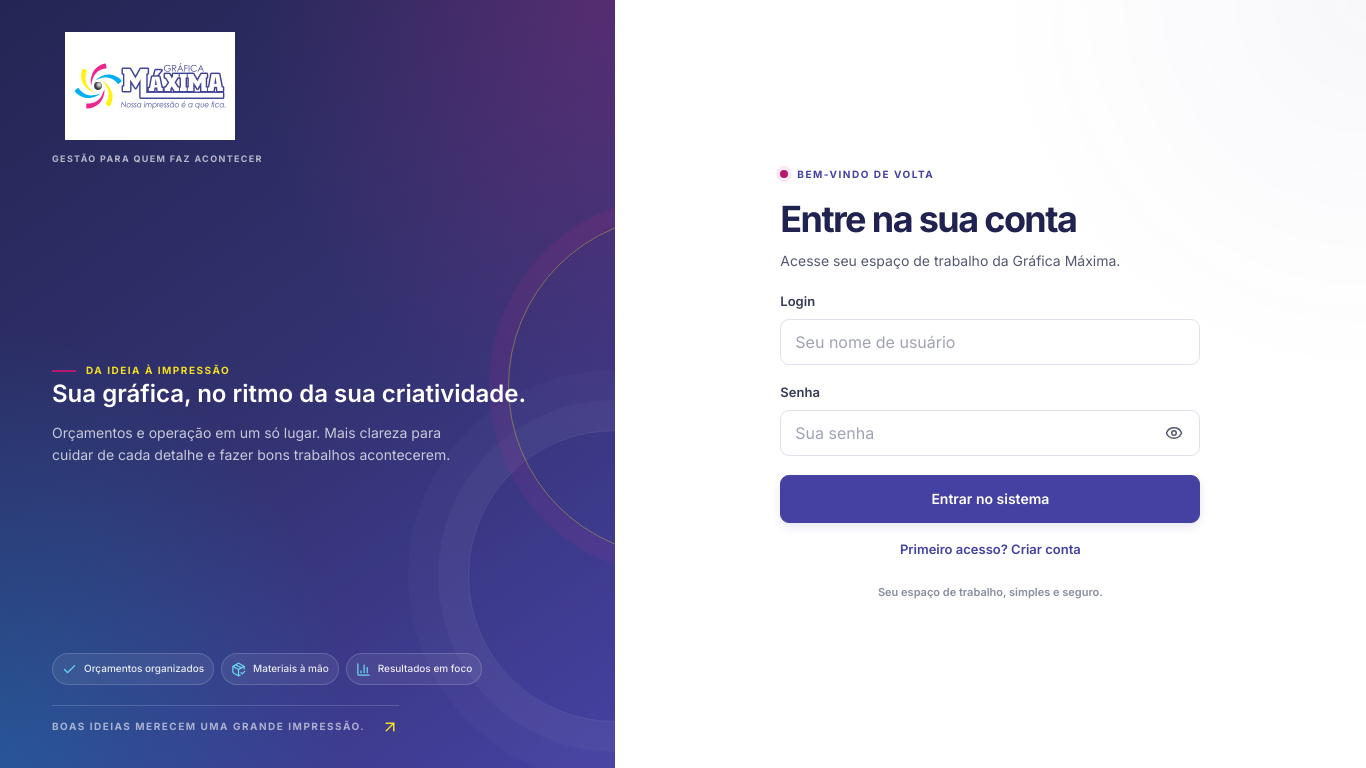
Test case: Acesso — login › mostra a mensagem do servidor quando o login é recusado
This screenshot has width=1366, height=768.
Type "ana" into the field labelled "Login". click: (990, 342)
box: x1=780 y1=319 x2=1200 y2=365
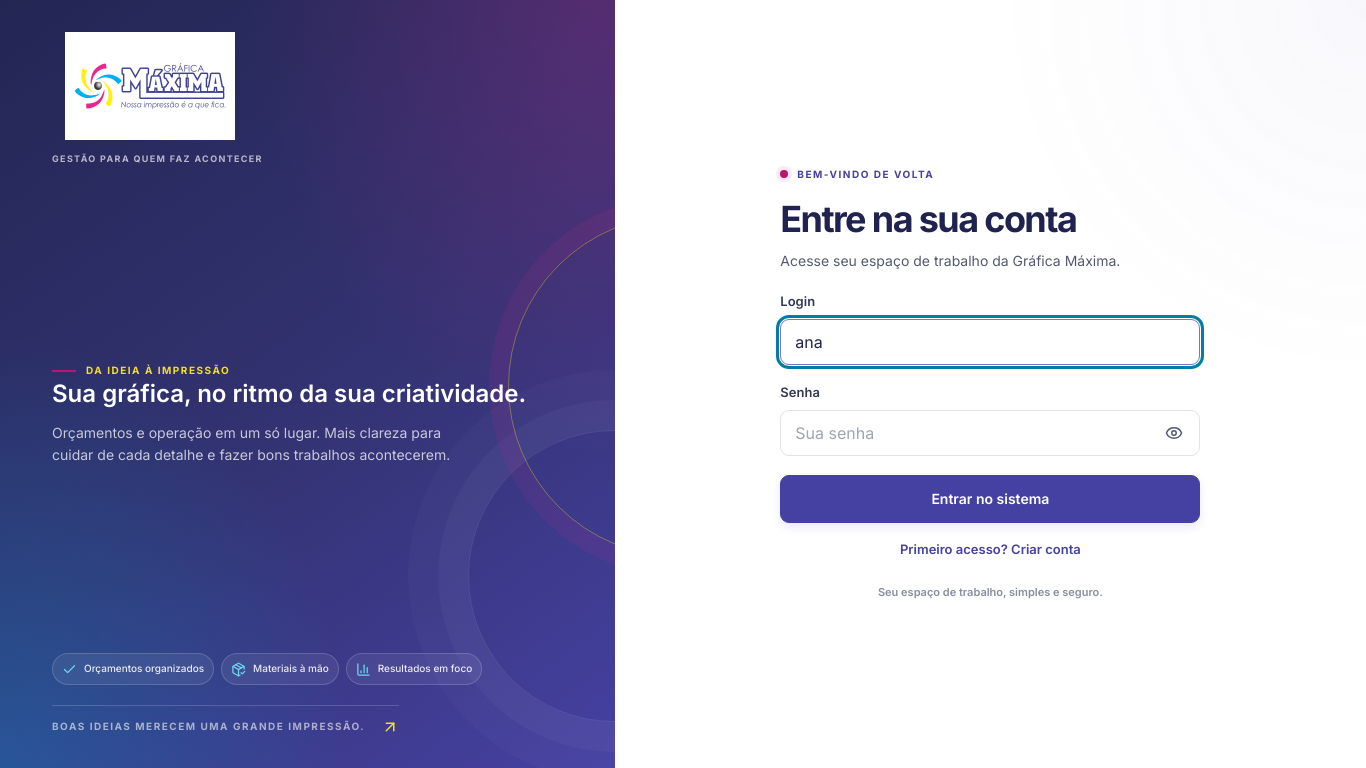
Type "senha-errada" into the password field labelled "Senha". click: (990, 433)
box: x1=780 y1=410 x2=1200 y2=456
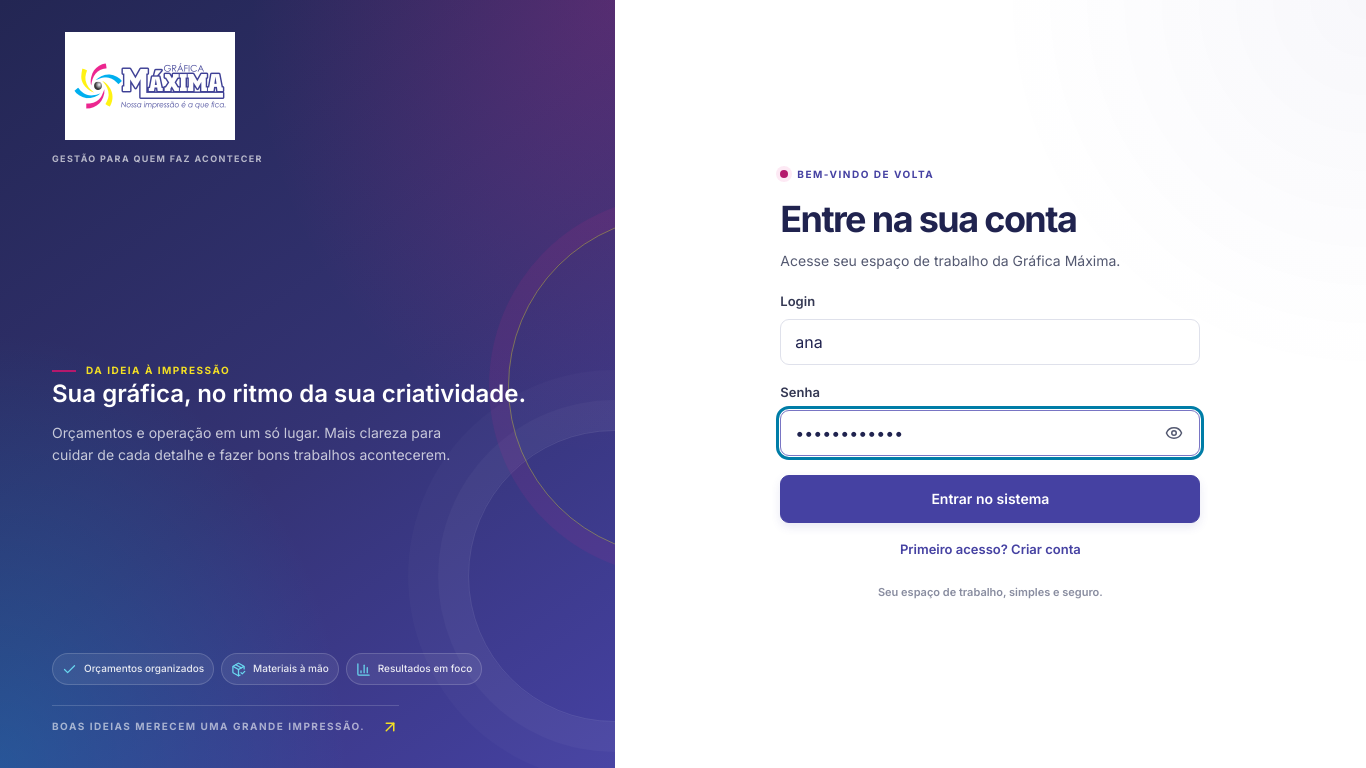
Click the button "Entrar no sistema". click: (990, 499)
box: x1=780 y1=475 x2=1200 y2=523
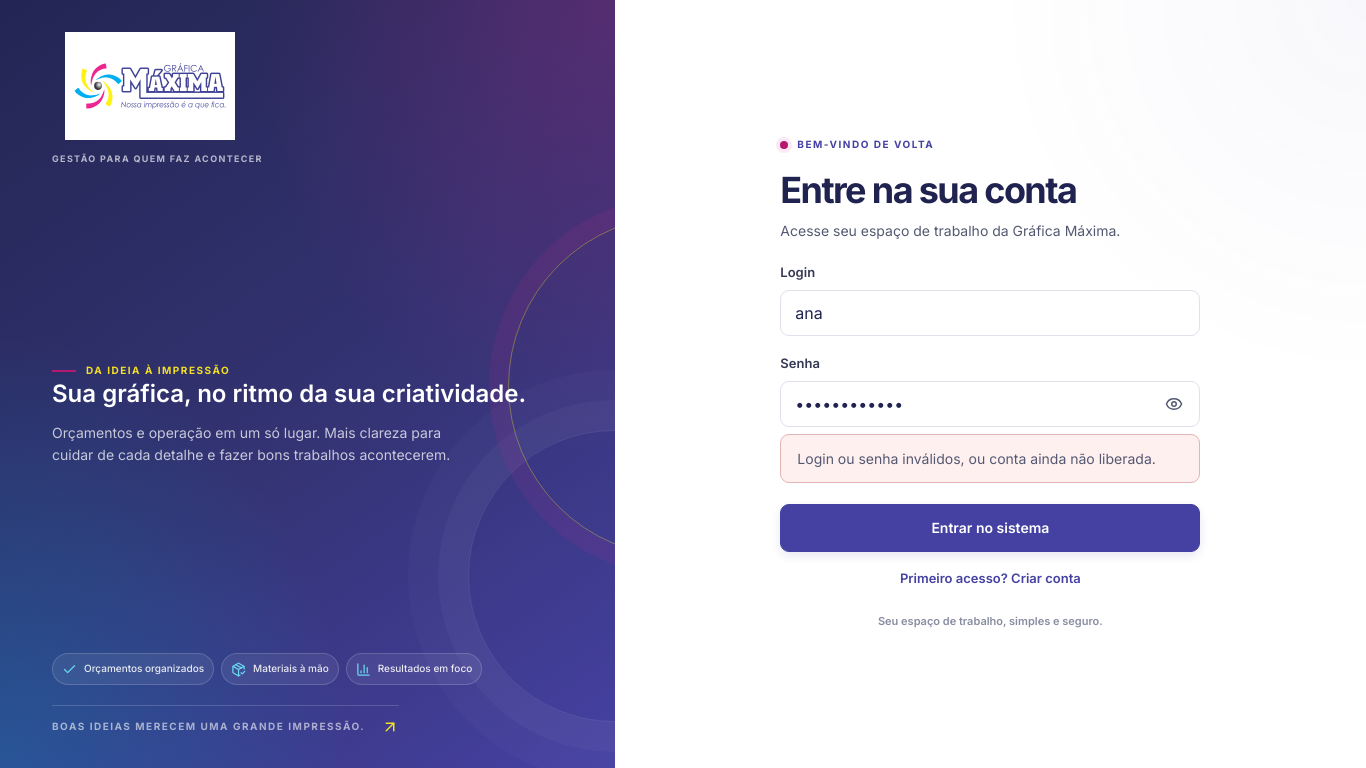
Expected: the message reads "Login ou senha inválidos, ou conta ainda não liberada.", x1=797 y1=450 x2=1156 y2=467
